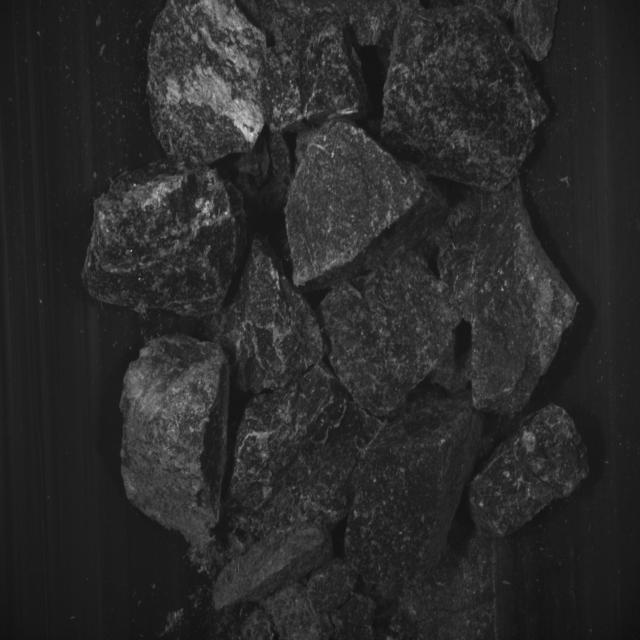Stones: (439, 180, 577, 414), (382, 7, 549, 192), (346, 397, 484, 596), (227, 365, 381, 537), (84, 162, 246, 317), (287, 121, 429, 287), (321, 251, 461, 417), (121, 336, 230, 547), (149, 1, 267, 164), (211, 240, 325, 395), (244, 1, 369, 132), (471, 404, 590, 537), (214, 525, 334, 610), (514, 1, 559, 63), (344, 1, 401, 48)
